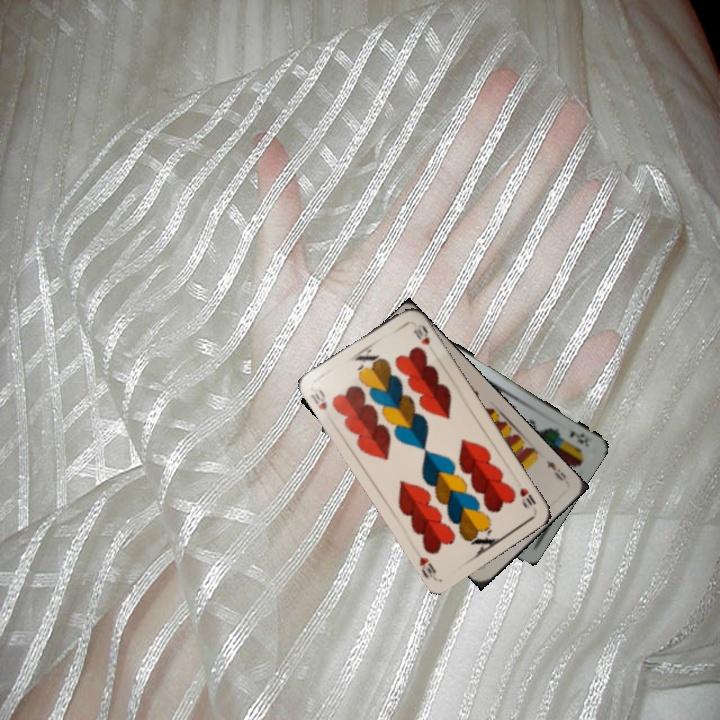E9: (542, 456, 569, 484)
EK: (565, 427, 594, 450)
H10: (306, 385, 330, 413), (515, 484, 539, 510)
